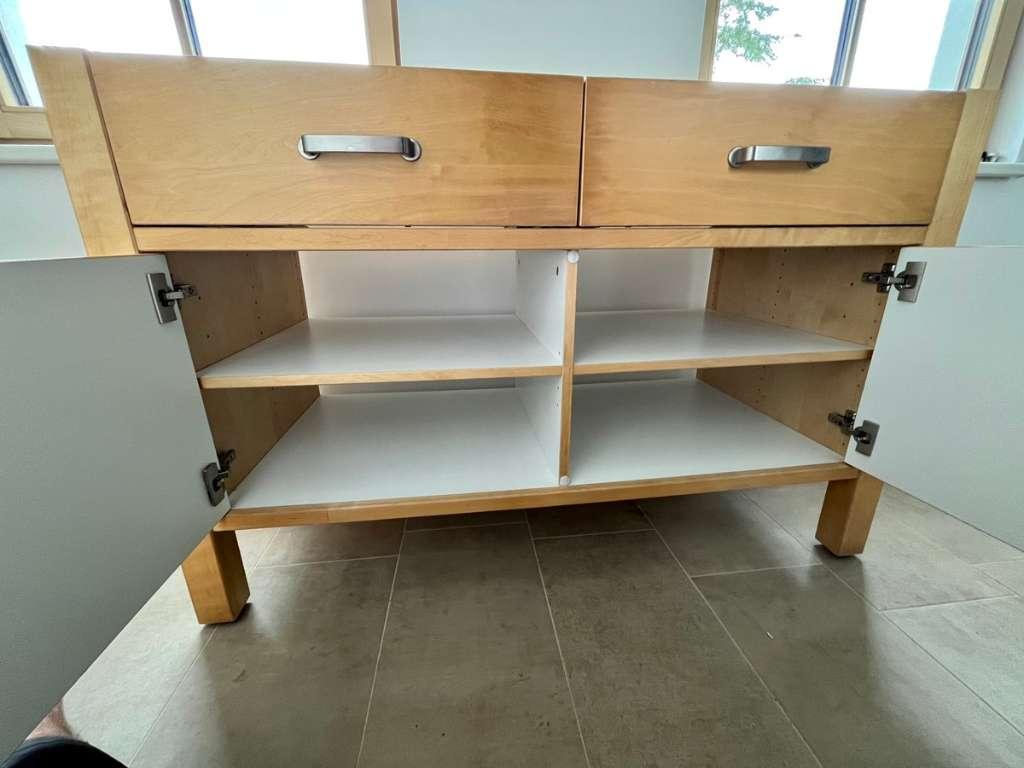cabinet_door: (120, 77, 589, 226), (577, 98, 969, 233)
handle: (296, 128, 424, 165), (727, 142, 835, 175)
